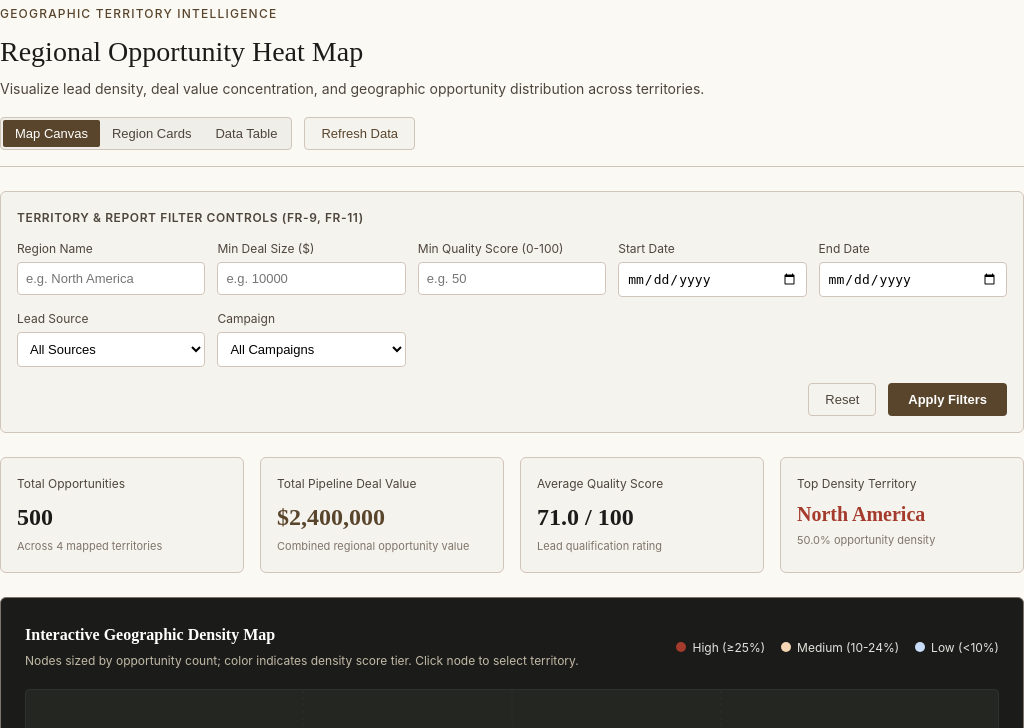
Test case: HeatMap Component (Feature 005 - T024) › Component Rendering › renders view mode buttons and toggles between Map, Cards, and Table views
Switch to Cards View
Click the button with test id "heatmap-view-cards-btn". click: (152, 133)
box: [100, 120, 204, 147]
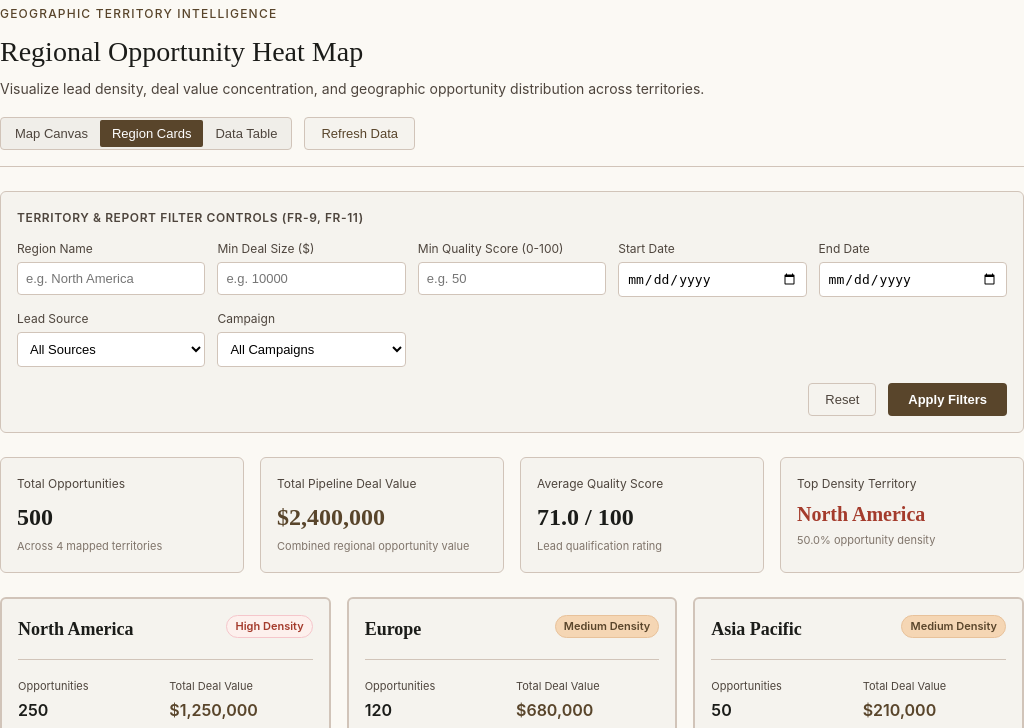
Switch to Data Table View
Click the button with test id "heatmap-view-table-btn". click: (246, 133)
box: [204, 120, 289, 147]
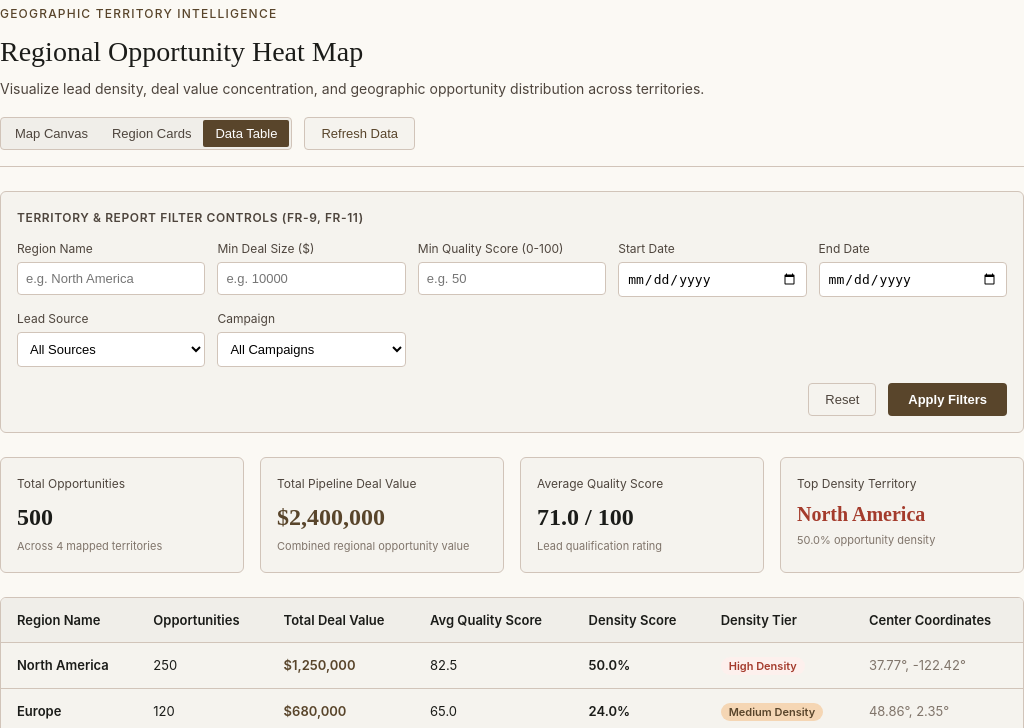
Result: the row with test id "heatmap-table-row-north-america" is shown at [1, 643, 1023, 689]
Switch back to Map View
Click the button with test id "heatmap-view-map-btn". click: (52, 133)
box: [3, 120, 100, 147]
(page scrolled)
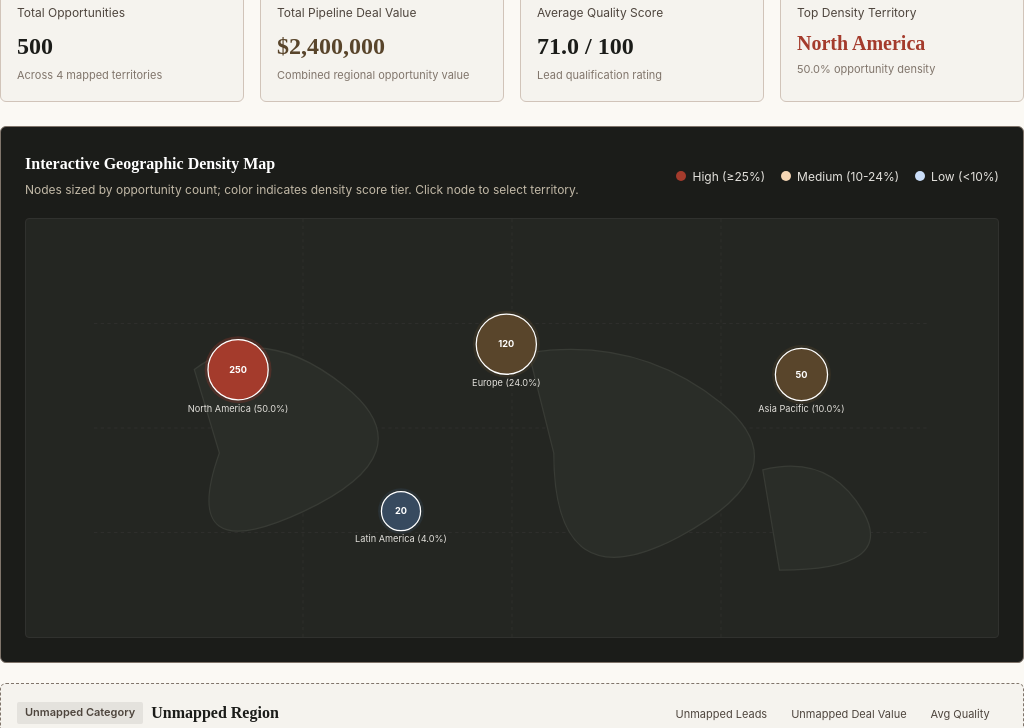
Result: the element with test id "heatmap-map-canvas" is shown
